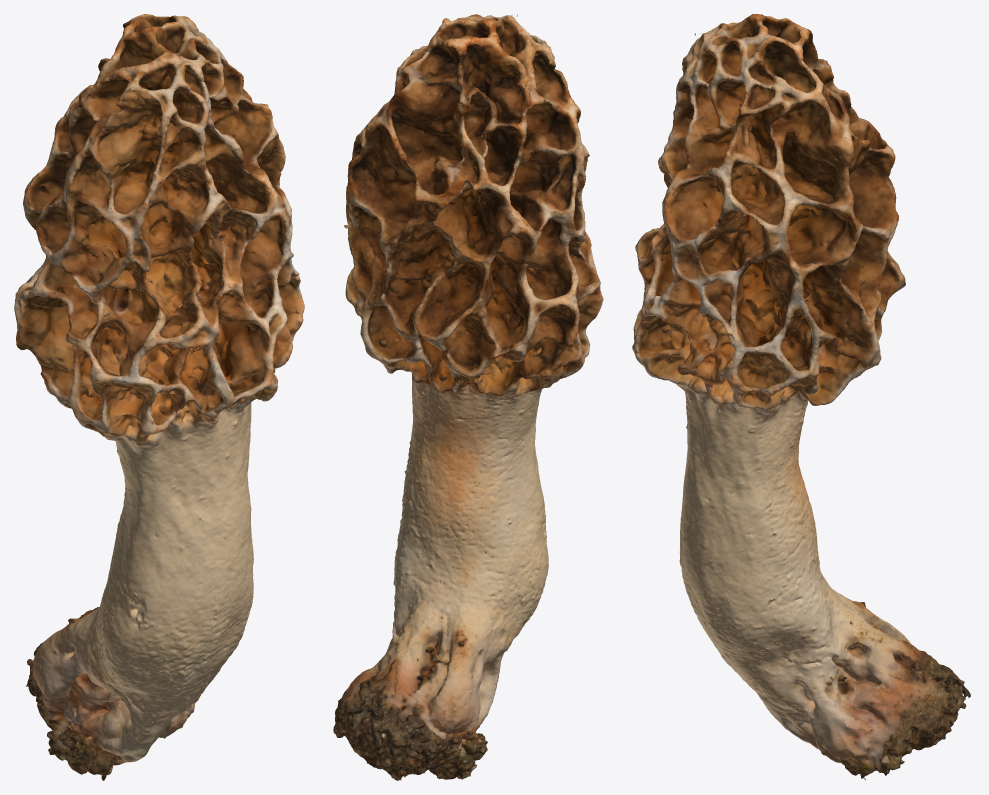
The model's file is model-morchella-esculenta-v0672.glb.
The picture shows the model from 3 angles, left to right: view 1: azimuth 30°, elevation 25°; view 2: azimuth 150°, elevation 25°; view 3: azimuth 270°, elevation 25°; orthographic projection. The views are drawn at different scales.
Parts seen in each view (by area): view 1: QS1222-W08-1all_5; view 2: QS1222-W08-1all_5; view 3: QS1222-W08-1all_5.
Boxes of the visible parts, left/top/right/bottom form: QS1222-W08-1all_5: left=14, top=14, right=304, bottom=780; QS1222-W08-1all_5: left=333, top=14, right=603, bottom=780; QS1222-W08-1all_5: left=632, top=14, right=970, bottom=780.
Size of the model in its own units: 1.37 by 4 by 1.66.
Materials: 2 (2 with a texture image).
